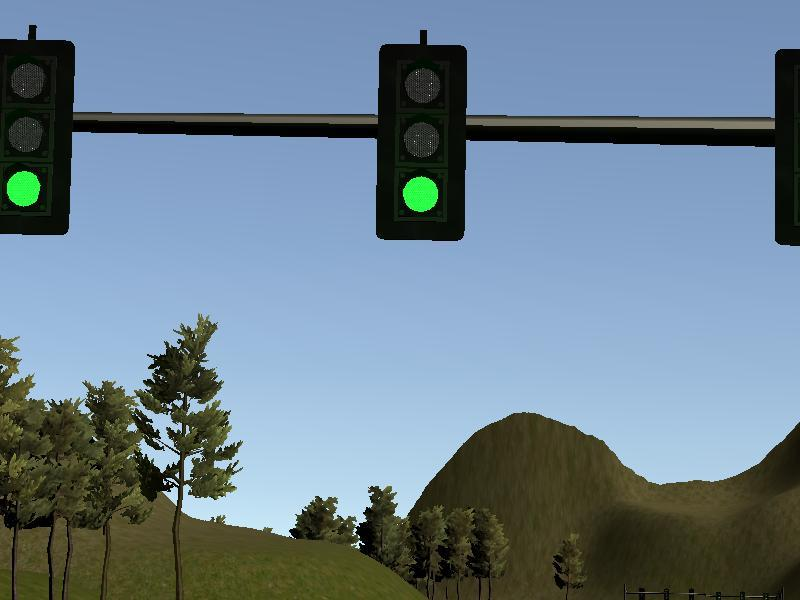Green: (381, 45, 464, 240), (1, 39, 68, 233)
